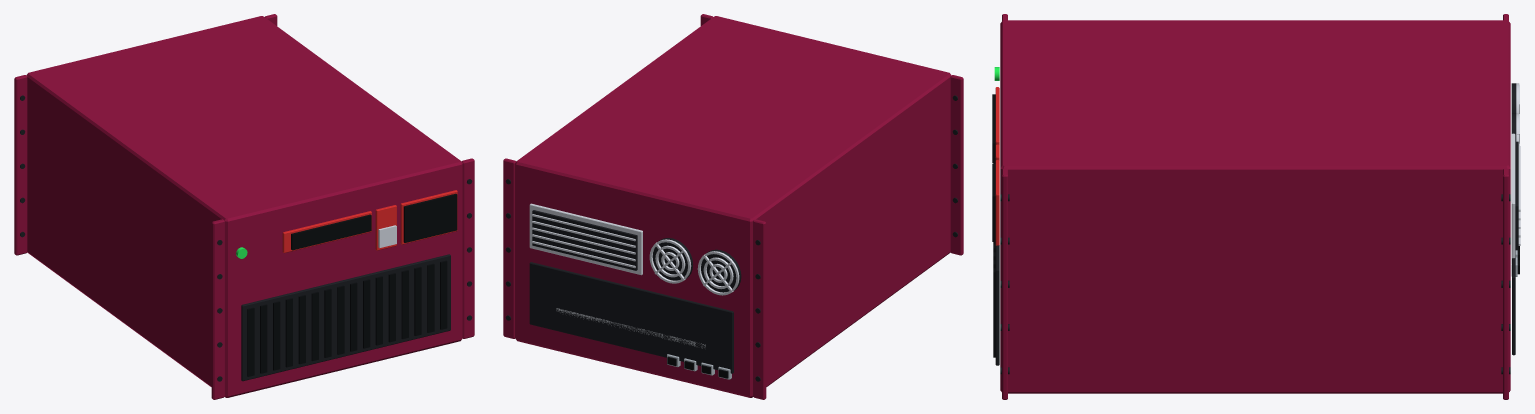
Rendered from dc_server_purple.obj.
3 renders of one model, left to right at view 1: azimuth 30°, elevation 25°; view 2: azimuth 150°, elevation 25°; view 3: azimuth 270°, elevation 25°, orthographic. The views are drawn at different scales.
Visible parts, largest first — view 1: Server_Chassis_Body_Server_Purple_Chassis, Front_Drive_Indicators_Server_Dark_Steel, Front_Drive_Indicators_OLED_Panel_Black, Front_UI_And_Displays_OLED_Panel_Black, Front_UI_And_Displays_UI_Accent_Red, Server_Chassis_Body_Server_Dark_Steel; view 2: Server_Chassis_Body_Server_Purple_Chassis, Rear_Fans_And_Radiator_Server_Dark_Steel, Rear_Fans_And_Radiator_Server_Silver_Grille, Rear_Network_Ports_Server_Silver_Grille, Server_Chassis_Body_Server_Dark_Steel; view 3: Server_Chassis_Body_Server_Purple_Chassis, Rear_Fans_And_Radiator_Server_Silver_Grille, Rear_Fans_And_Radiator_Server_Dark_Steel, Front_UI_And_Displays_UI_Accent_Red, Front_Drive_Indicators_Server_Dark_Steel, Front_UI_And_Displays_OLED_Panel_Black.
Part boxes in pixels (x1,y1,x2,y2): Server_Chassis_Body_Server_Purple_Chassis: [14, 14, 474, 399]; Front_Drive_Indicators_Server_Dark_Steel: [241, 254, 450, 381]; Front_Drive_Indicators_OLED_Panel_Black: [247, 260, 447, 376]; Front_UI_And_Displays_OLED_Panel_Black: [291, 193, 457, 250]; Front_UI_And_Displays_UI_Accent_Red: [282, 190, 457, 253]; Server_Chassis_Body_Server_Dark_Steel: [20, 95, 472, 381]; Server_Chassis_Body_Server_Purple_Chassis: [503, 14, 963, 399]; Rear_Fans_And_Radiator_Server_Dark_Steel: [529, 210, 741, 373]; Rear_Fans_And_Radiator_Server_Silver_Grille: [529, 203, 739, 295]; Rear_Network_Ports_Server_Silver_Grille: [556, 308, 705, 348]; Server_Chassis_Body_Server_Dark_Steel: [505, 95, 957, 381]; Server_Chassis_Body_Server_Purple_Chassis: [1000, 14, 1510, 399]; Rear_Fans_And_Radiator_Server_Silver_Grille: [1511, 83, 1520, 258]; Rear_Fans_And_Radiator_Server_Dark_Steel: [1511, 83, 1518, 355]; Front_UI_And_Displays_UI_Accent_Red: [995, 87, 999, 245]; Front_Drive_Indicators_Server_Dark_Steel: [995, 245, 999, 365]; Front_UI_And_Displays_OLED_Panel_Black: [992, 94, 995, 241].
Bounding box in the file's own units: 0.488 × 0.32 × 0.6725.
